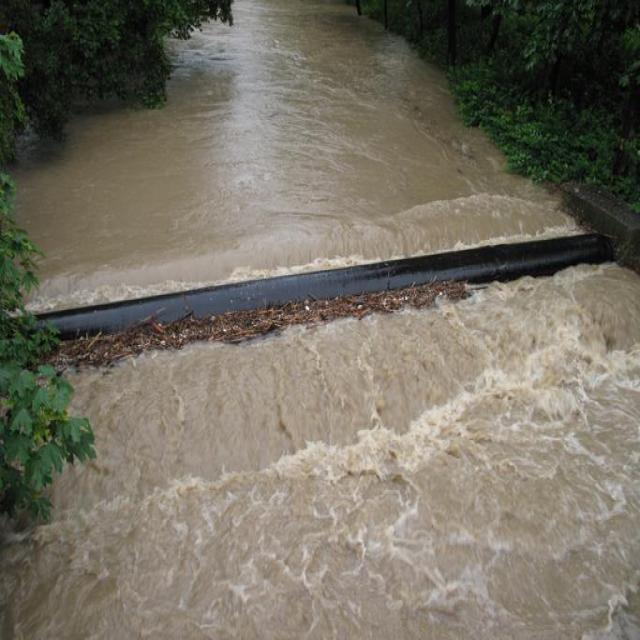flood: (30, 0, 631, 640)
